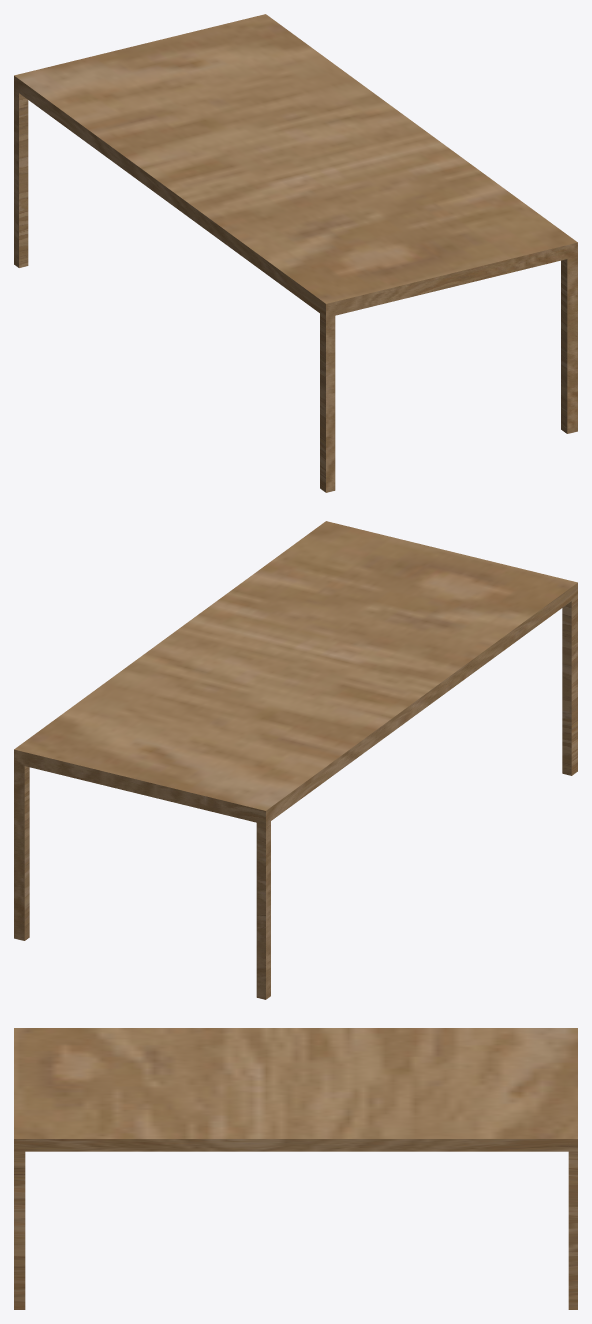
Rendered from big desk 1.fbx.
The picture shows the model from 3 angles, top to bottom: view 1: azimuth 30°, elevation 25°; view 2: azimuth 150°, elevation 25°; view 3: azimuth 270°, elevation 25°; orthographic projection. The views are drawn at different scales.
Parts seen in each view (by area): view 1: pCube1; view 2: pCube1; view 3: pCube1.
Boxes of the visible parts, <box> form: pCube1: <box>14,14,577,492</box>; pCube1: <box>14,521,577,999</box>; pCube1: <box>14,1028,577,1309</box>.
Bounding box in the file's own units: 212 × 152 × 456.
Materials: 1 (1 with a texture image).
